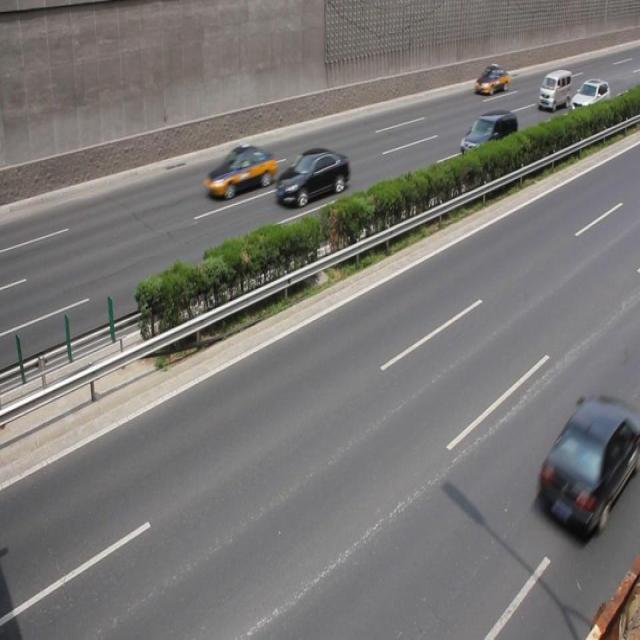car: (533, 396, 632, 540), (275, 148, 348, 208), (204, 145, 276, 200), (458, 108, 516, 169), (568, 76, 608, 120), (472, 63, 508, 97)
truck: (536, 70, 570, 113)
